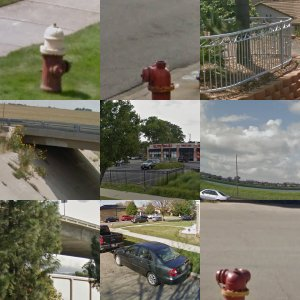公車: (30, 205, 96, 271), (35, 34, 99, 74), (100, 129, 156, 164)
棕梠樹: (202, 200, 277, 300), (202, 24, 240, 96)
汽車: (100, 172, 133, 201)
紅綠燈: (256, 99, 298, 125)
